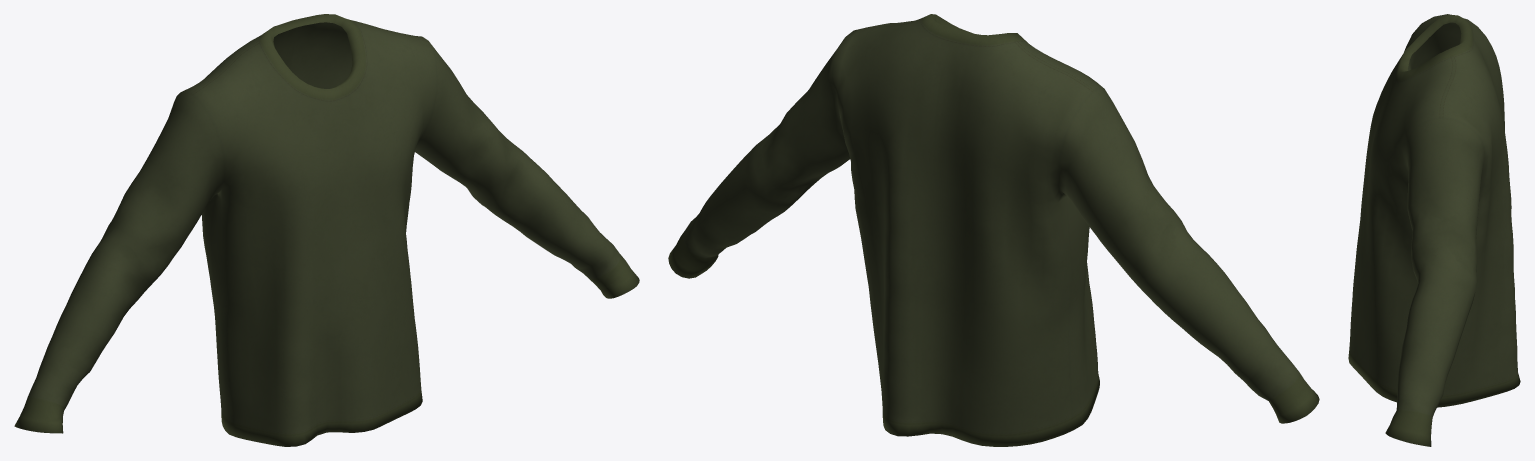
The model's file is sweater.draco.glb.
3 views of the same model, side by side, from view 1: azimuth 30°, elevation 25°; view 2: azimuth 150°, elevation 25°; view 3: azimuth 270°, elevation 25° (orthographic). The views are drawn at different scales.
Parts seen in each view (by area): view 1: Object_2; view 2: Object_2; view 3: Object_2.
Part boxes in pixels (x1=…): Object_2: x1=14, y1=14, x2=639, y2=446; Object_2: x1=668, y1=14, x2=1319, y2=446; Object_2: x1=1348, y1=14, x2=1520, y2=446.
Bounding box in the file's own units: 1.2 × 0.703 × 0.3222.
Materials: 1 (1 with a texture image).
